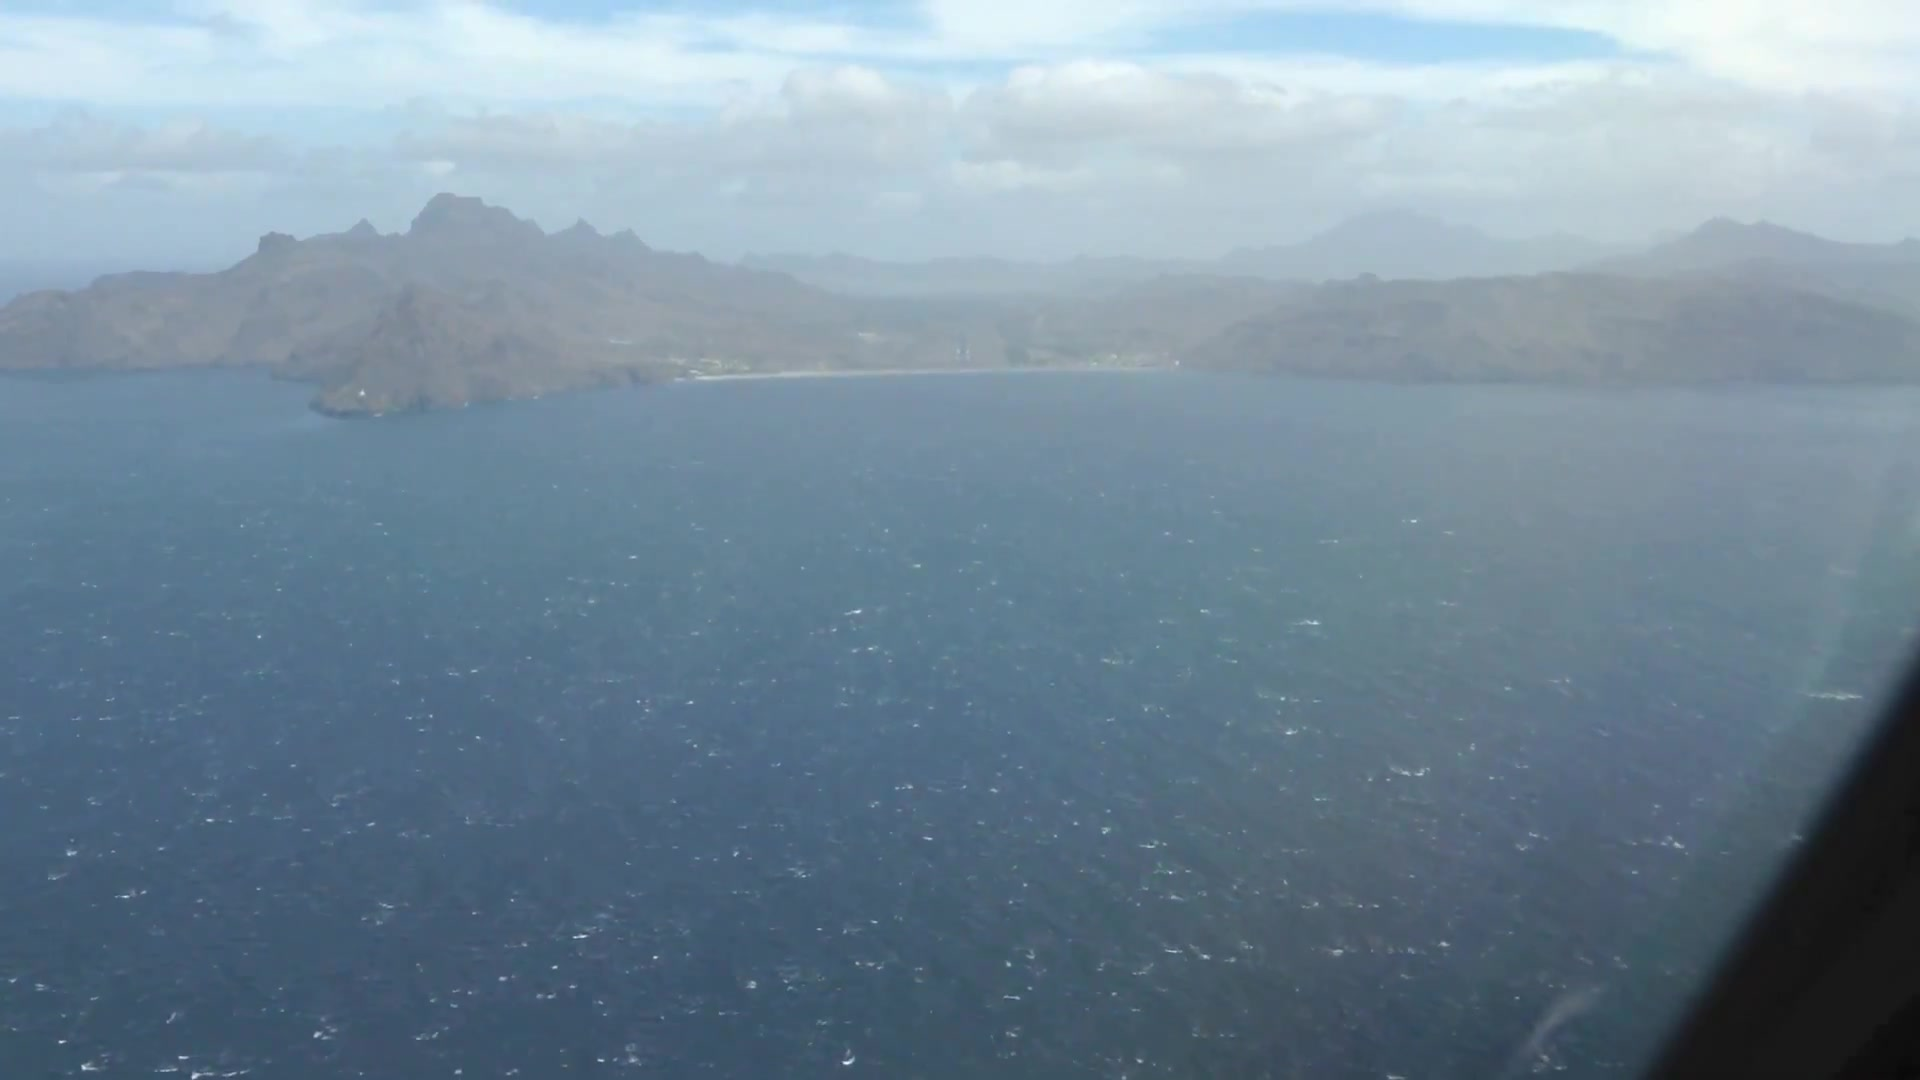runway: (953, 327, 972, 367)
